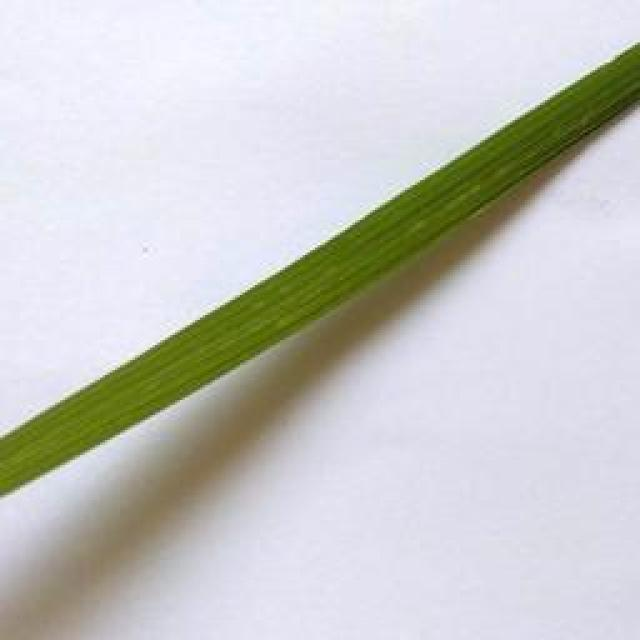Healthy-Plant: (0, 40, 640, 499)
